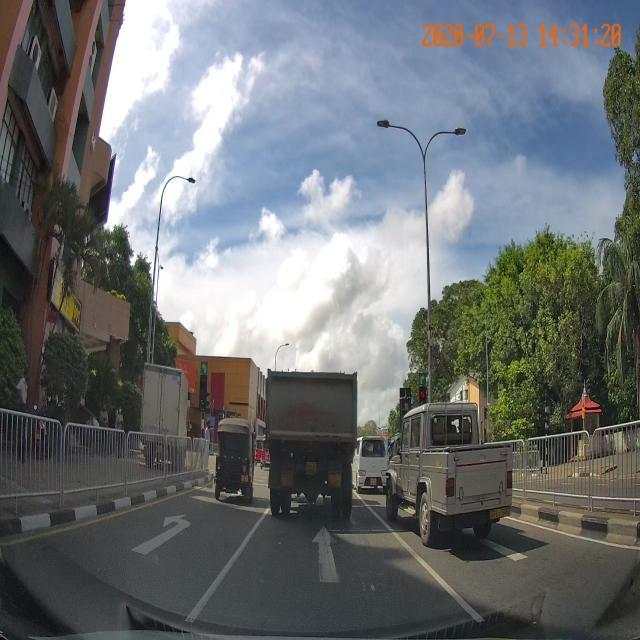forward: (198, 525, 464, 595)
